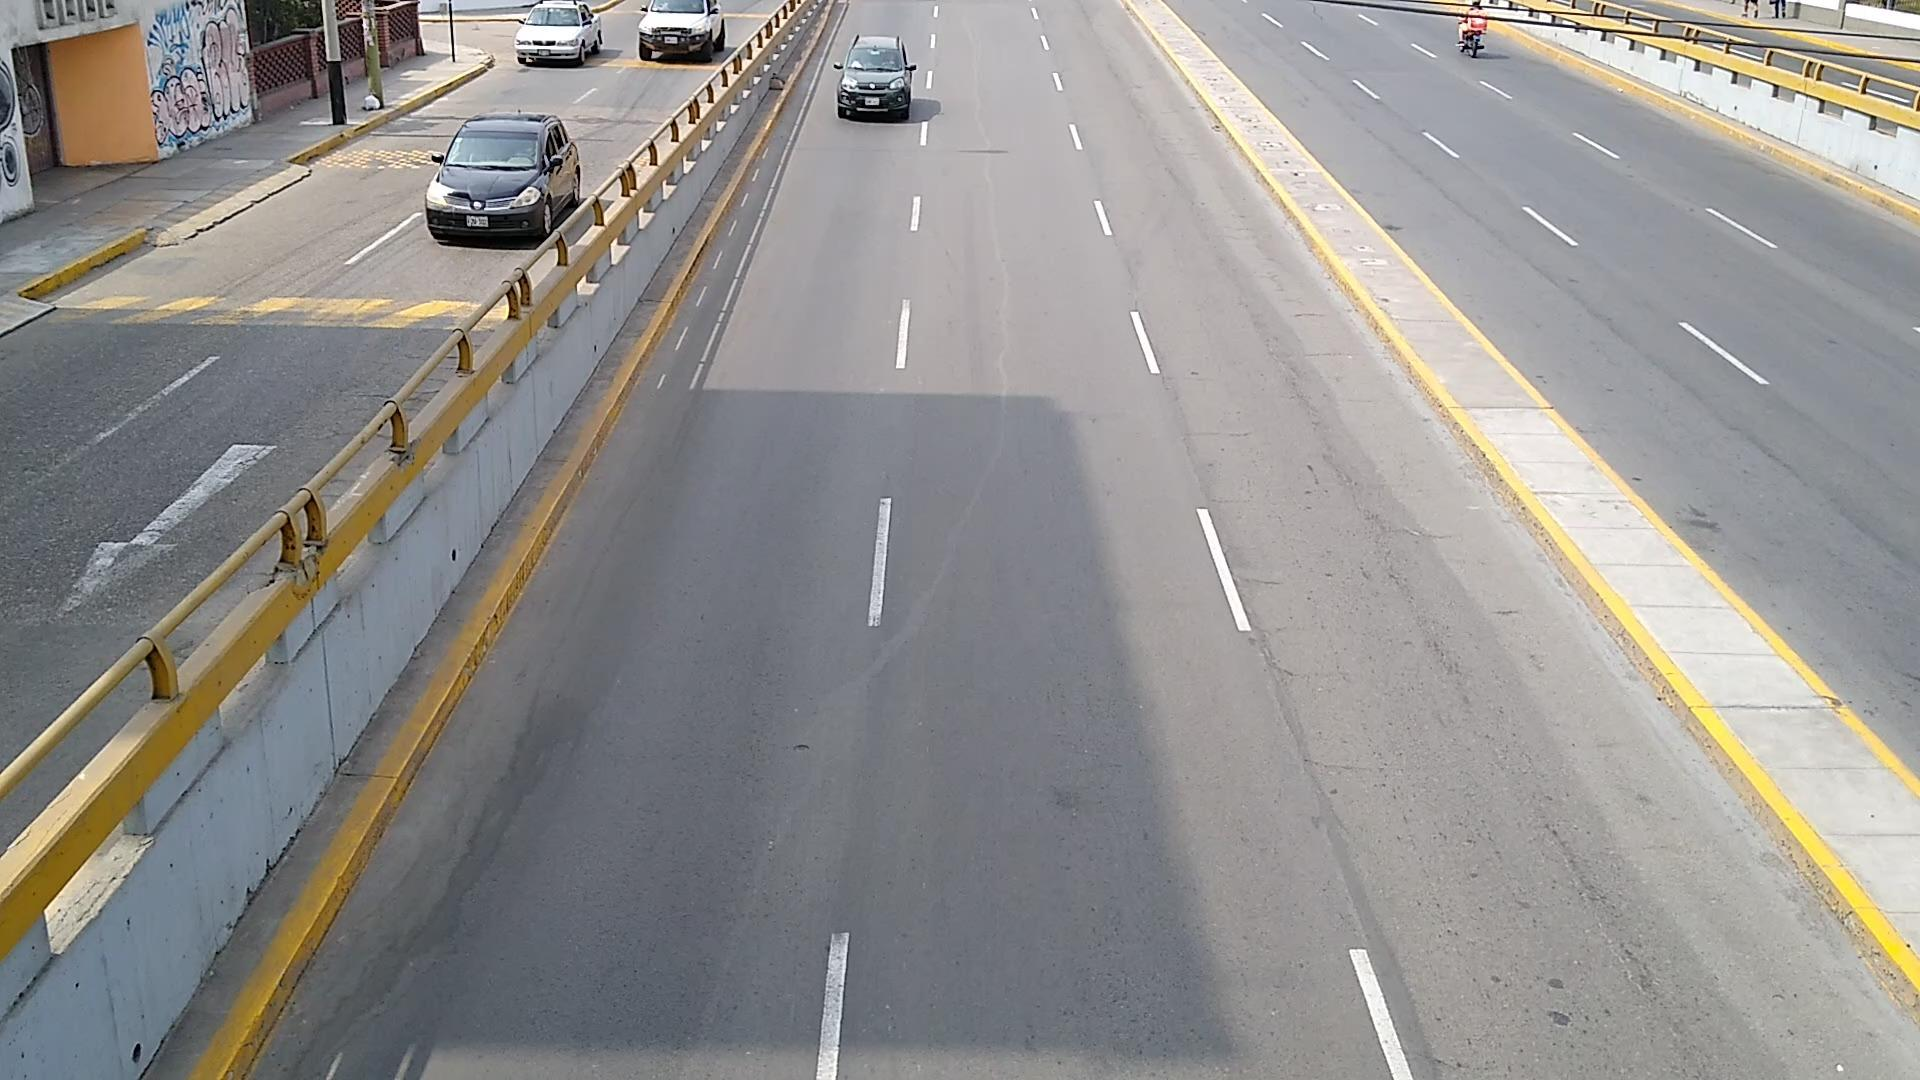car: (428, 112, 581, 240), (836, 34, 911, 120), (518, 0, 604, 62), (638, 0, 724, 60)
